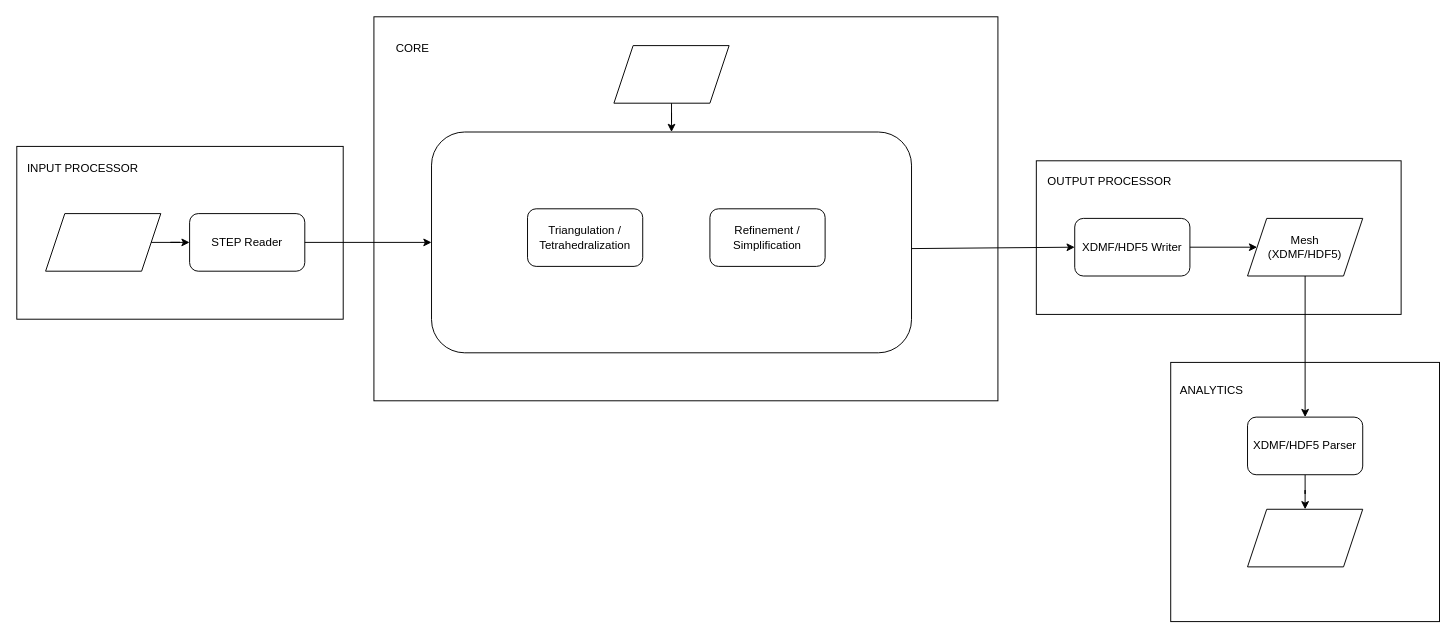
Image size: 1456x638. Some labels were removed from this diagram. The centre of each missing label's shape, as x and y in pixels:
"Geometry Model (STEP)" belongs at pixel 103 242.
"Mesher Config and State (XML)" belongs at pixel 671 74.
"Mesher Report (.txt)" belongs at pixel 1305 537.
